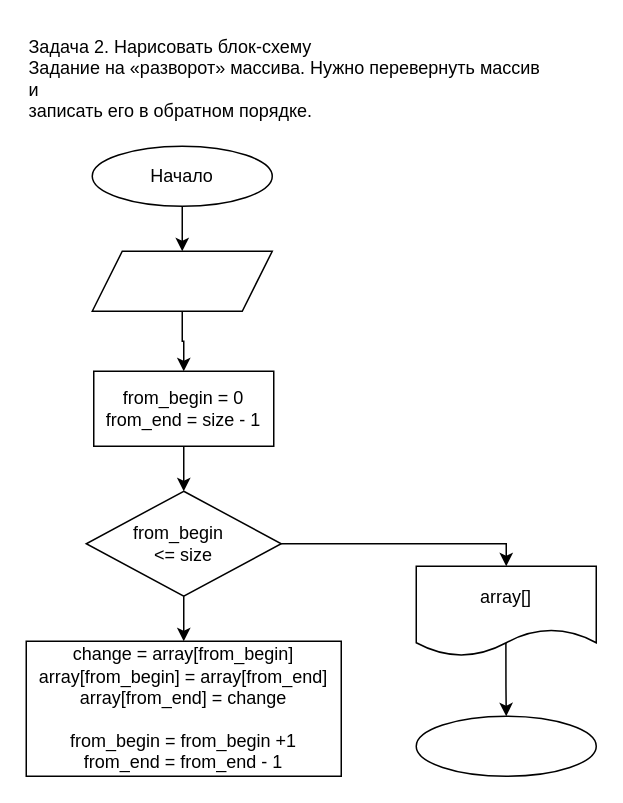
Some shapes in this 623 by 803 pixel diagram are drawn without their labels. Each missing label, with the centre of its shape:
size array[size]: (181,280)
Конец: (505,745)
